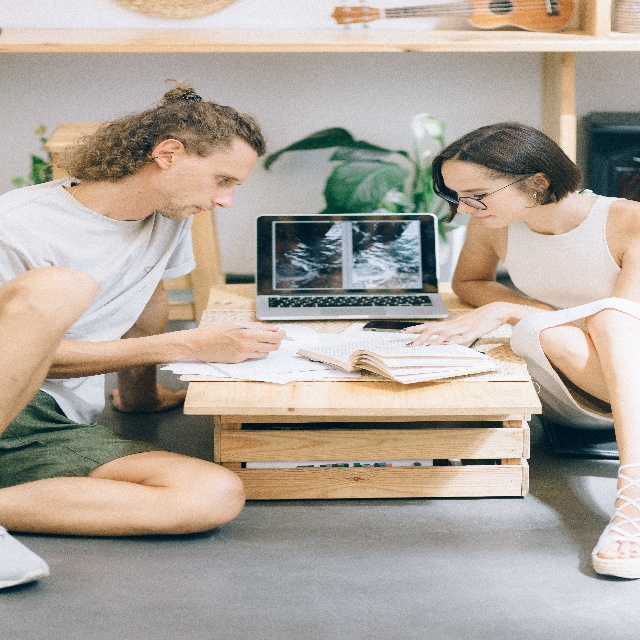Gafas: (439, 173, 533, 210)
Sin_guantes: (399, 300, 510, 347), (198, 310, 287, 364), (109, 380, 189, 413)
